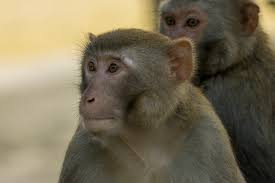monkey: (130, 3, 275, 179), (59, 16, 191, 176)
